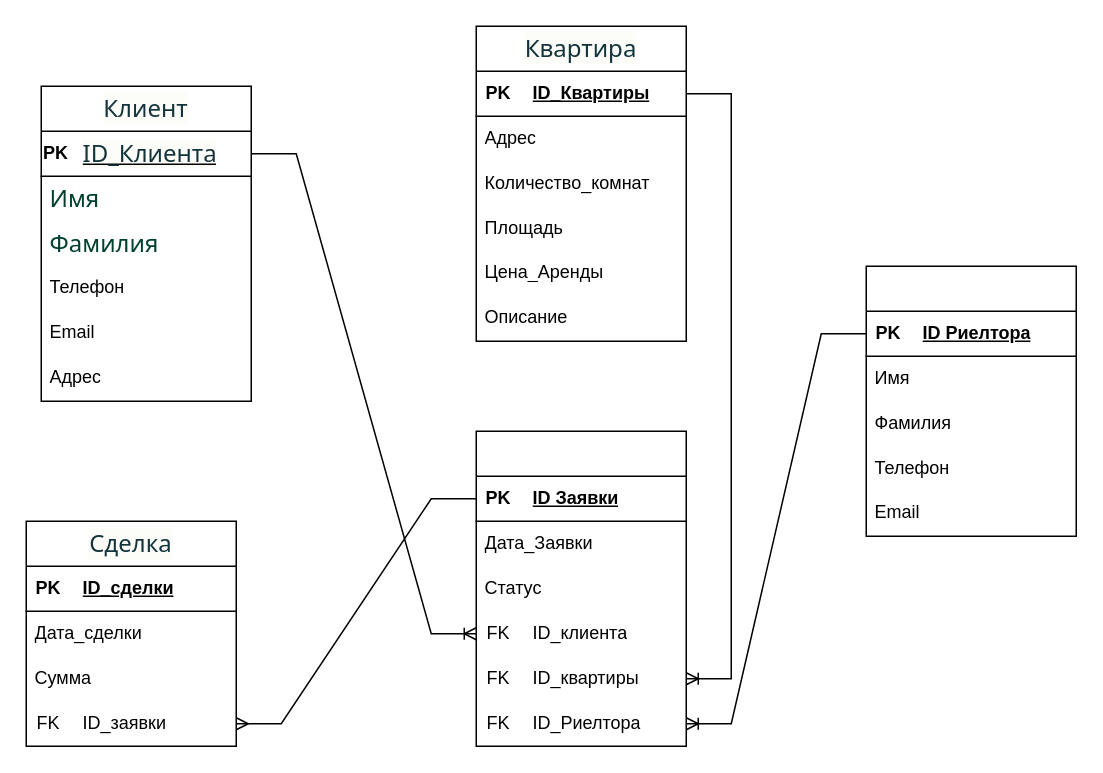
This 1103x773 diagram has some shape labels left out. The shapes that lost their labels are listed below. From the top down, each one's box as (x1, y1, x2, y2) in pixels, then its label:
(865, 265, 1076, 536): Риэлтор
(475, 430, 686, 746): Заявка
